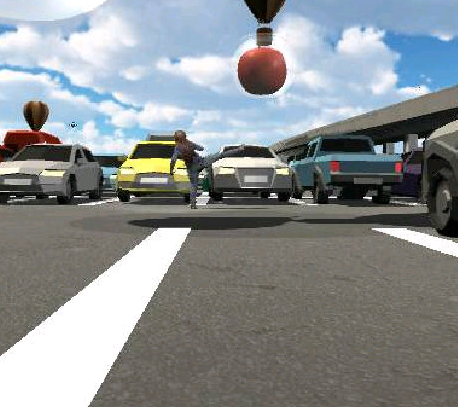turn_right: (169, 127, 244, 212)
